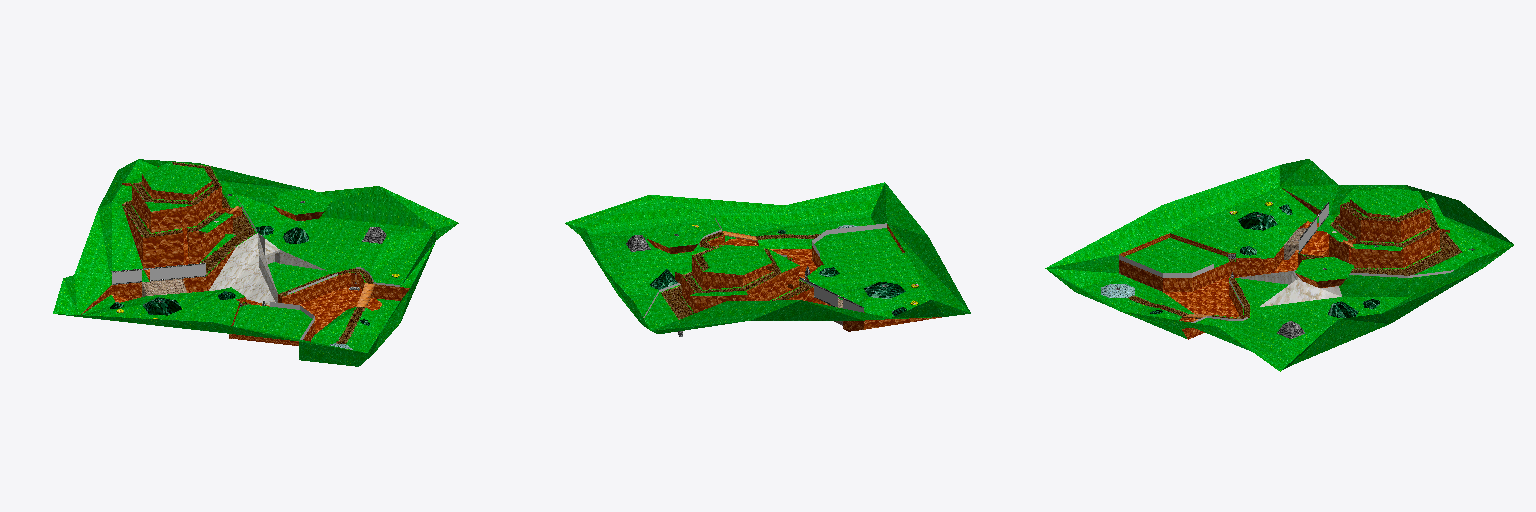
3 views of the same model, side by side, from view 1: azimuth 30°, elevation 25°; view 2: azimuth 150°, elevation 25°; view 3: azimuth 270°, elevation 25° (orthographic).
Size of the model in its own units: 2598 by 524 by 2598.
Materials: 16 (14 with a texture image).